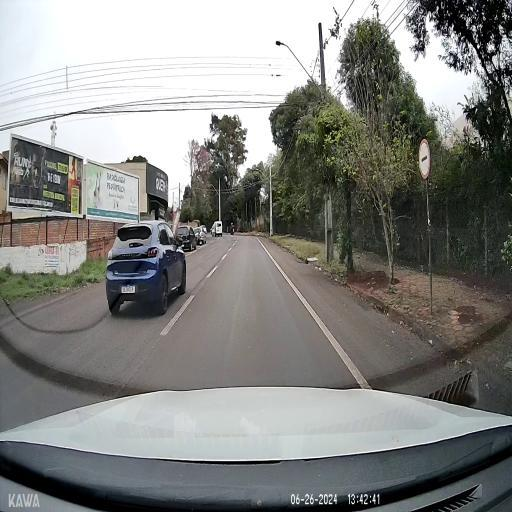R-24a: (418, 138, 430, 180)
